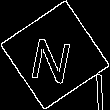N_N: (31, 26, 79, 84)
